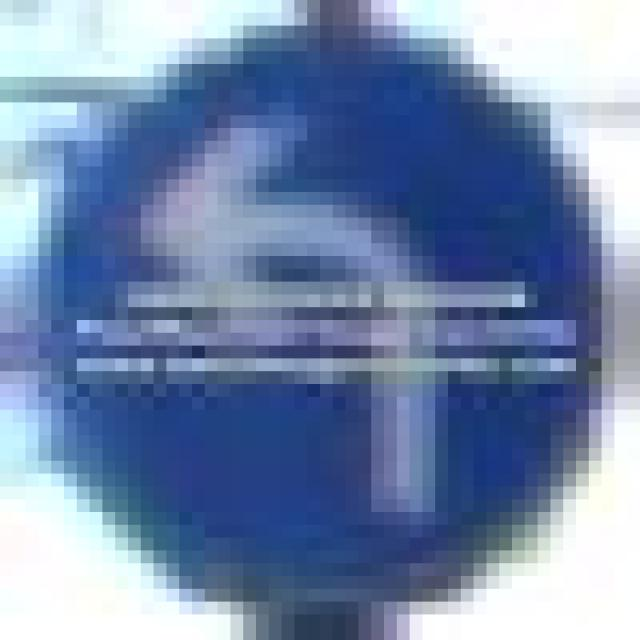COMPULSARY_TURN_LEFT: (26, 26, 588, 576)
